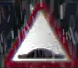Speed Breaker ahead: (3, 5, 77, 67)
